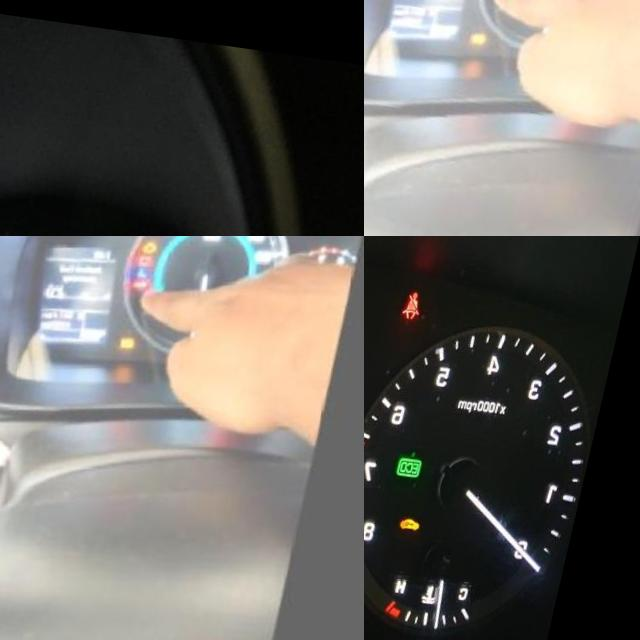Engine cooling system: (142, 249, 158, 266)
